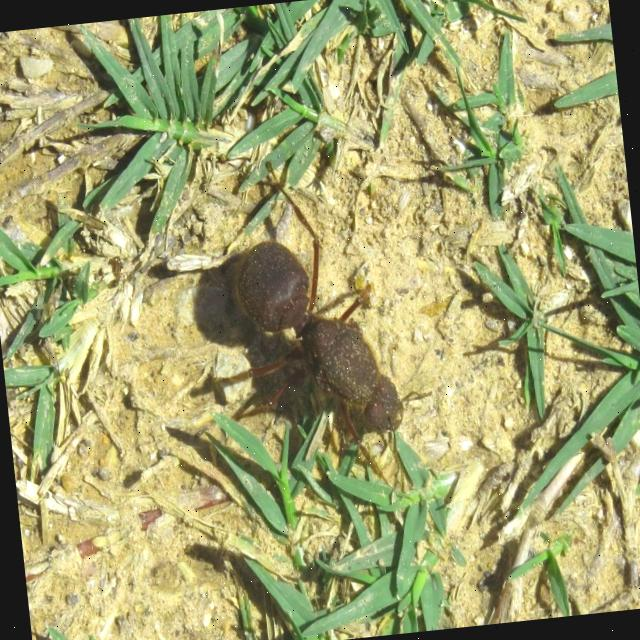Alive-Female-Dealate: (182, 146, 441, 504)
